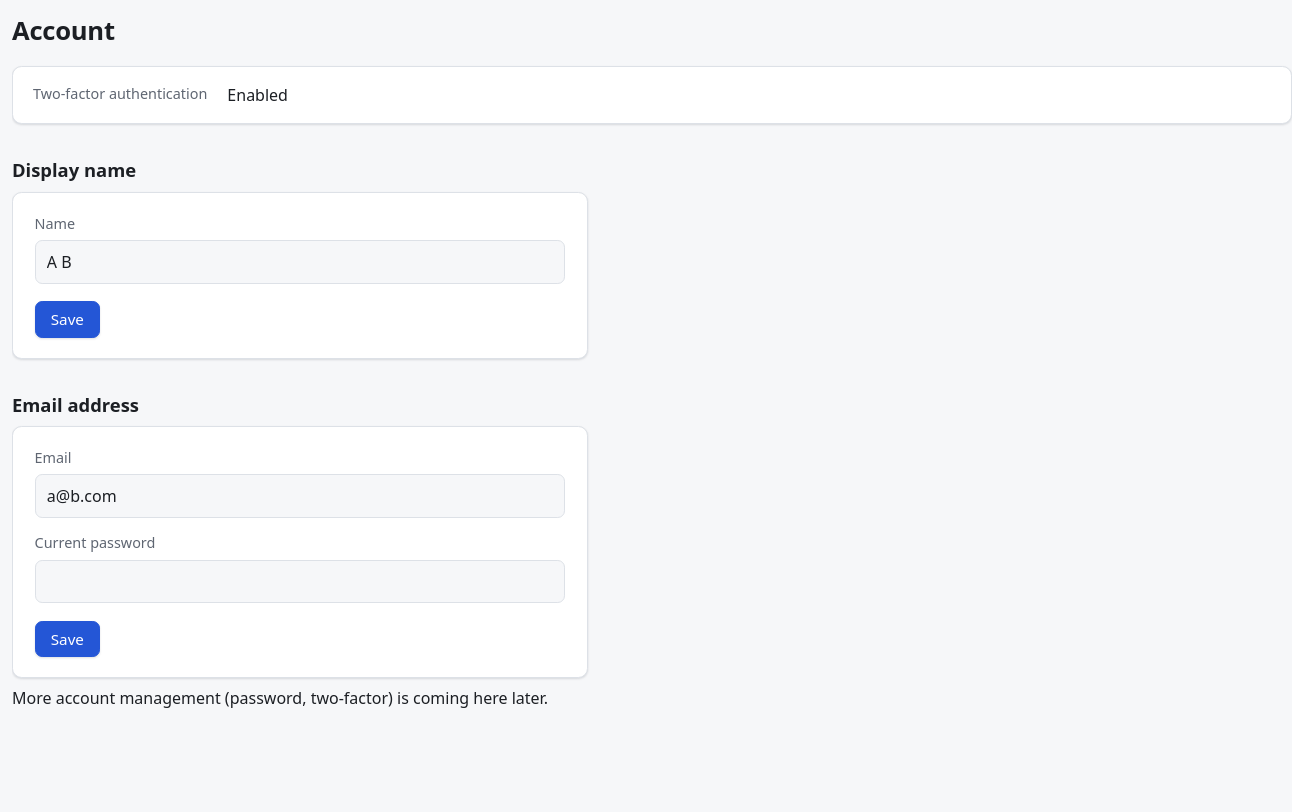
Account › shows the server error when an email change is rejected
The width and height of the screenshot is (1292, 812).
Replace the text in the field labelled "Email" with "new@b.com" at x=300, y=496, box [35,474,565,518]
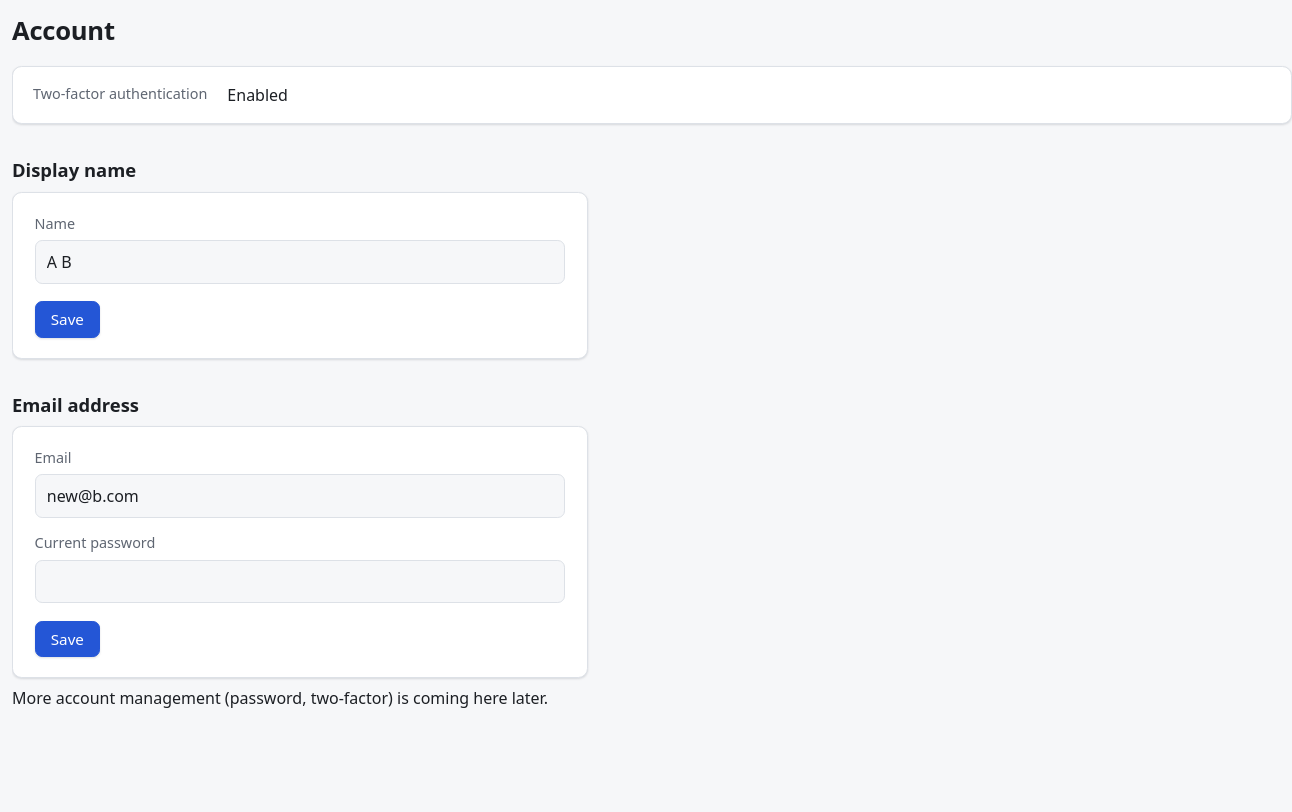
Type "wrong" into the password field labelled "Current password".
click(300, 581); type("wrong")  # box [35,560,565,603]
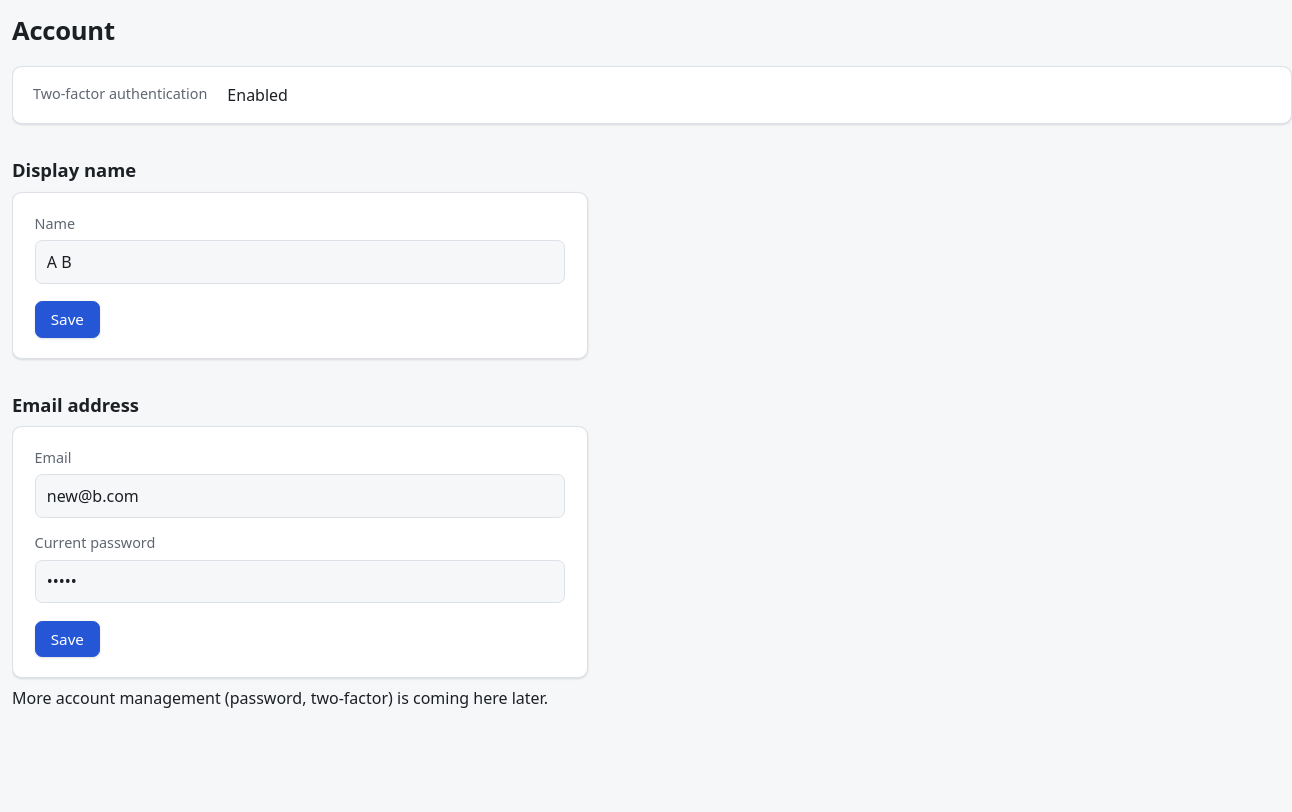
Click the button "Save" below "Current password".
click(67, 639)  # box [35,621,100,657]
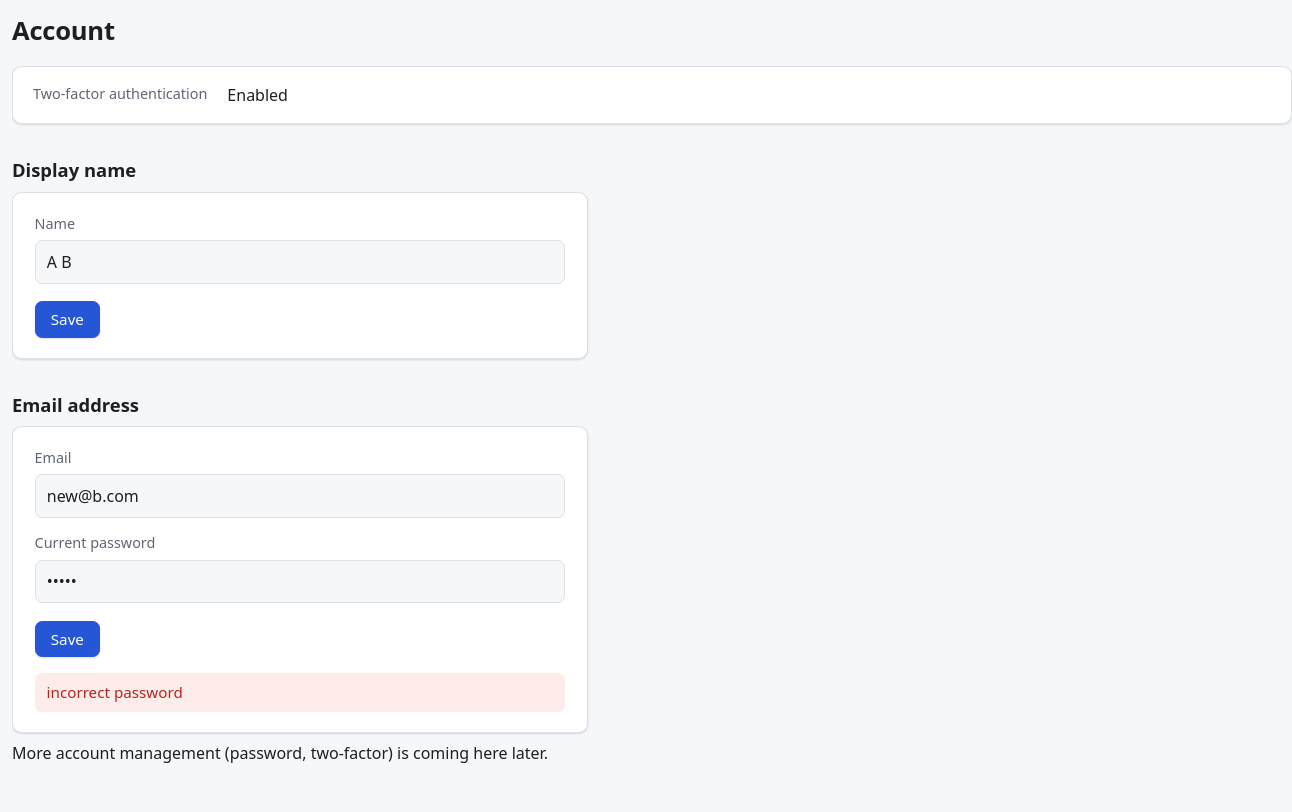
Result: the text "incorrect password" is shown at [35,673,565,712]
